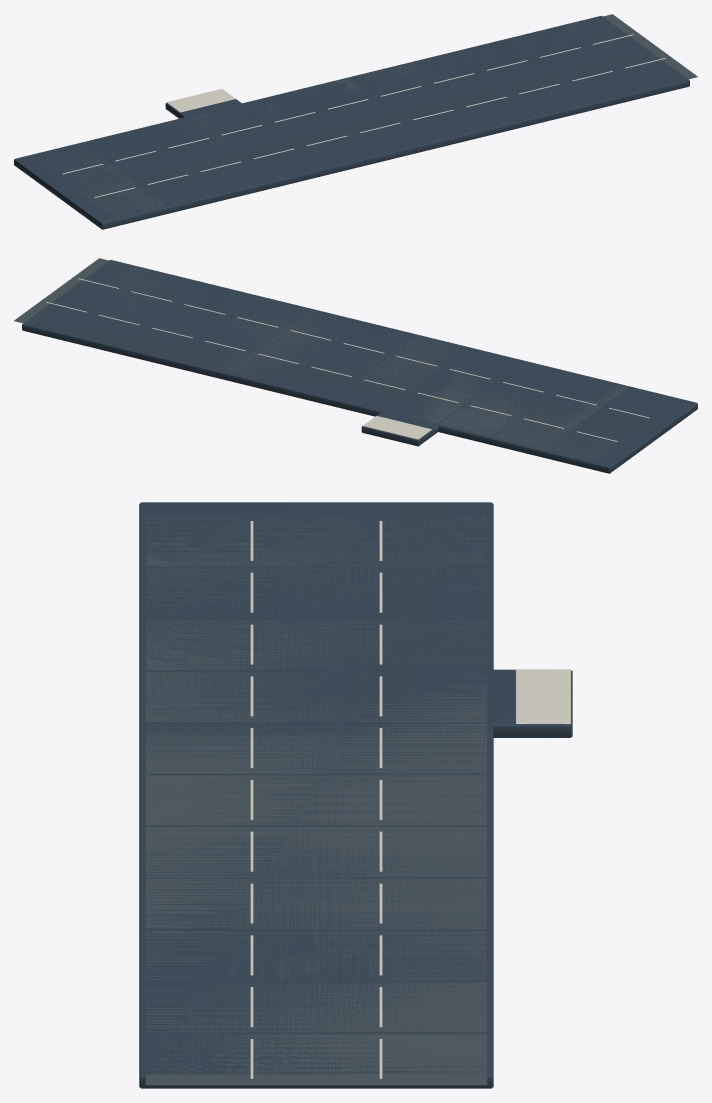
The model's file is SM_SSTO_InteriorFloor.fbx.
The picture shows the model from 3 angles, top to bottom: view 1: azimuth 30°, elevation 25°; view 2: azimuth 150°, elevation 25°; view 3: azimuth 270°, elevation 25°; orthographic projection. The views are drawn at different scales.
Parts seen in each view (by area): view 1: SM_SSTO_InteriorFloor; view 2: SM_SSTO_InteriorFloor; view 3: SM_SSTO_InteriorFloor.
Part boxes in pixels (bbox=[...]): SM_SSTO_InteriorFloor: bbox=[14, 14, 697, 229]; SM_SSTO_InteriorFloor: bbox=[14, 258, 697, 473]; SM_SSTO_InteriorFloor: bbox=[139, 502, 572, 1088].
Size of the model in its own units: 1970 by 619 by 23.
